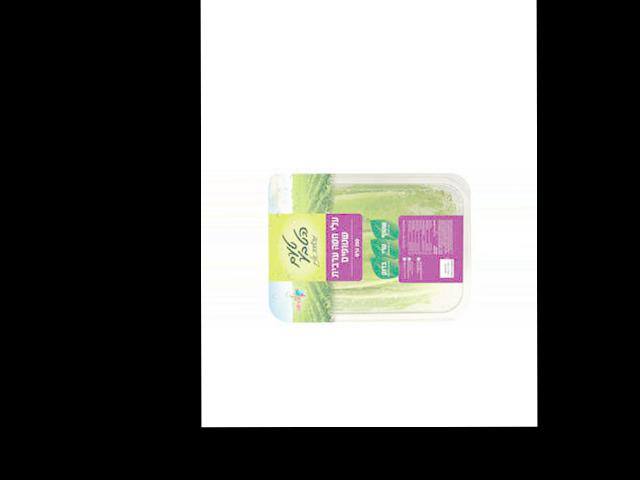lettuce: (325, 137, 482, 212)
